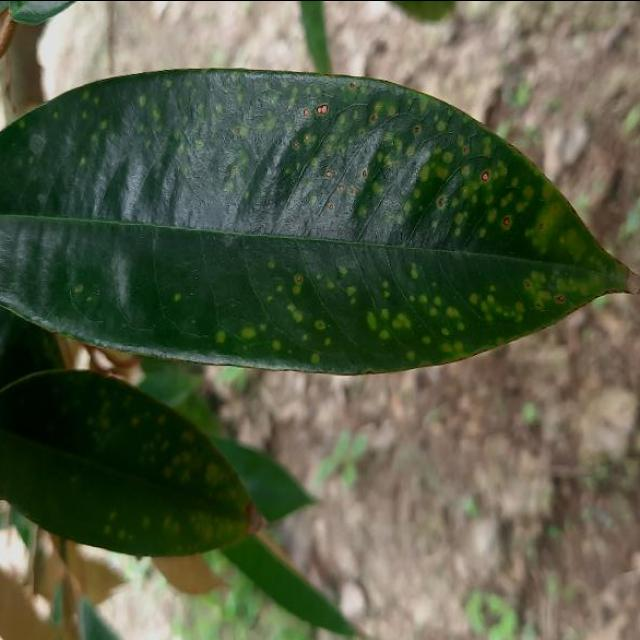Leaf Spot: (0, 51, 640, 387), (0, 356, 296, 576)
